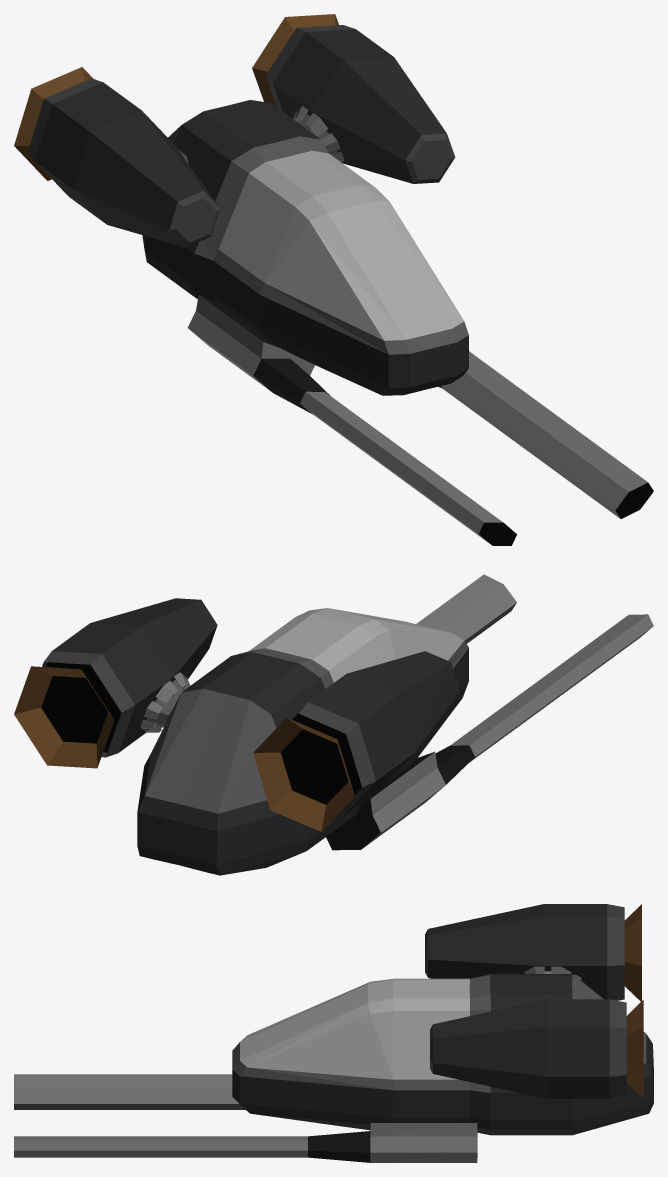
Rendered from Vehecle.FBX.
3 renders of one model, top to bottom at view 1: azimuth 30°, elevation 25°; view 2: azimuth 150°, elevation 25°; view 3: azimuth 270°, elevation 25°, orthographic. The views are drawn at different scales.
Parts seen in each view (by area): view 1: VIFS001, VIFS003, VIFS005, VIFS019, VIFS010, VIFS024, VIFS002, VIFS006, VIFS020, VIFS023, VIFS004, VIFS018 (+1 smaller); view 2: VIFS003, VIFS002, VIFS005, VIFS019, VIFS024, VIFS001, VIFS004, VIFS018, VIFS010, VIFS008, VIFS022, VIFS023 (+6 smaller); view 3: VIFS003, VIFS001, VIFS019, VIFS005, VIFS010, VIFS024, VIFS002, VIFS020, VIFS006, VIFS009, VIFS018, VIFS004.
Boxes of the visible parts, box(x1,y1,x2,y2) form: VIFS001: box(218, 150, 463, 340); VIFS003: box(142, 100, 468, 395); VIFS005: box(35, 82, 218, 247); VIFS019: box(273, 29, 446, 183); VIFS010: box(441, 351, 647, 518); VIFS024: box(187, 295, 502, 544); VIFS002: box(168, 125, 468, 354); VIFS006: box(28, 78, 220, 247); VIFS020: box(266, 25, 455, 183); VIFS023: box(199, 295, 330, 414); VIFS004: box(14, 67, 93, 180); VIFS018: box(252, 14, 338, 106); VIFS003: box(137, 648, 468, 875); VIFS002: box(145, 640, 468, 813); VIFS005: box(308, 651, 459, 815); VIFS019: box(52, 598, 217, 752); VIFS024: box(362, 614, 653, 848); VIFS001: box(249, 608, 463, 682); VIFS004: box(253, 717, 354, 831); VIFS018: box(14, 666, 114, 768); VIFS010: box(416, 574, 516, 643); VIFS008: box(280, 729, 348, 804); VIFS022: box(41, 676, 107, 743); VIFS023: box(326, 745, 474, 850); VIFS003: box(232, 974, 653, 1135); VIFS001: box(240, 978, 469, 1079); VIFS019: box(433, 999, 609, 1098); VIFS005: box(428, 904, 607, 999); VIFS010: box(14, 1123, 477, 1162); VIFS024: box(14, 1074, 245, 1109); VIFS002: box(232, 974, 646, 1092); VIFS020: box(430, 999, 626, 1098); VIFS006: box(425, 904, 624, 1000); VIFS009: box(308, 1131, 370, 1162); VIFS018: box(626, 1000, 643, 1098); VIFS004: box(624, 904, 641, 1001).
Bounding box in the file's own units: 1.51 × 0.9321 × 3.
